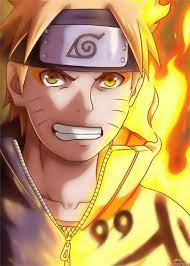Naruto: (6, 1, 150, 162)
